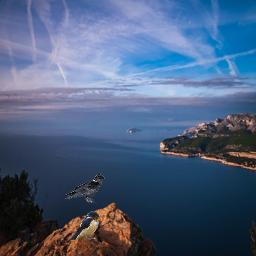Crow: (63, 174, 105, 204)
Swallow: (67, 211, 101, 241)
